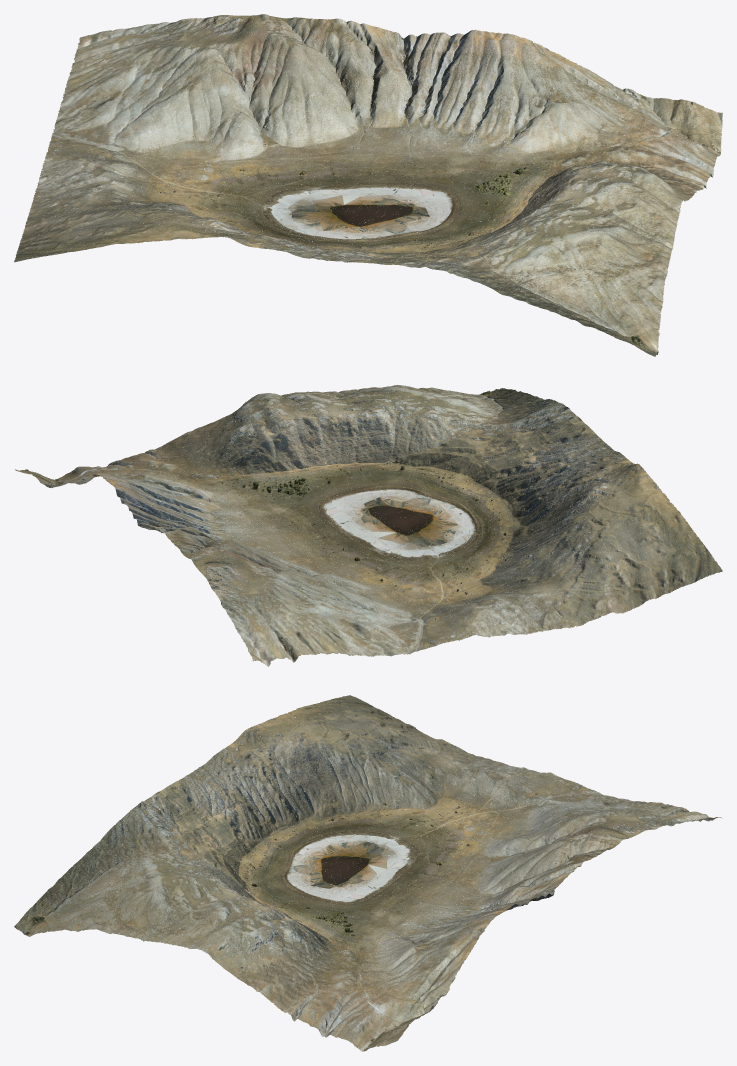
File: medium.glb
3 renders of one model, top to bottom at view 1: azimuth 30°, elevation 25°; view 2: azimuth 150°, elevation 25°; view 3: azimuth 270°, elevation 25°, orthographic. The views are drawn at different scales.
Visible parts, largest first — view 1: polat; view 2: polat; view 3: polat.
Boxes of the visible parts, left/top/right/bottom form: polat: left=14, top=14, right=722, bottom=356; polat: left=15, top=385, right=722, bottom=666; polat: left=14, top=695, right=722, bottom=1051.
Bounding box in the file's own units: 1426 × 195 × 1403.
Materials: 17 (17 with a texture image).
